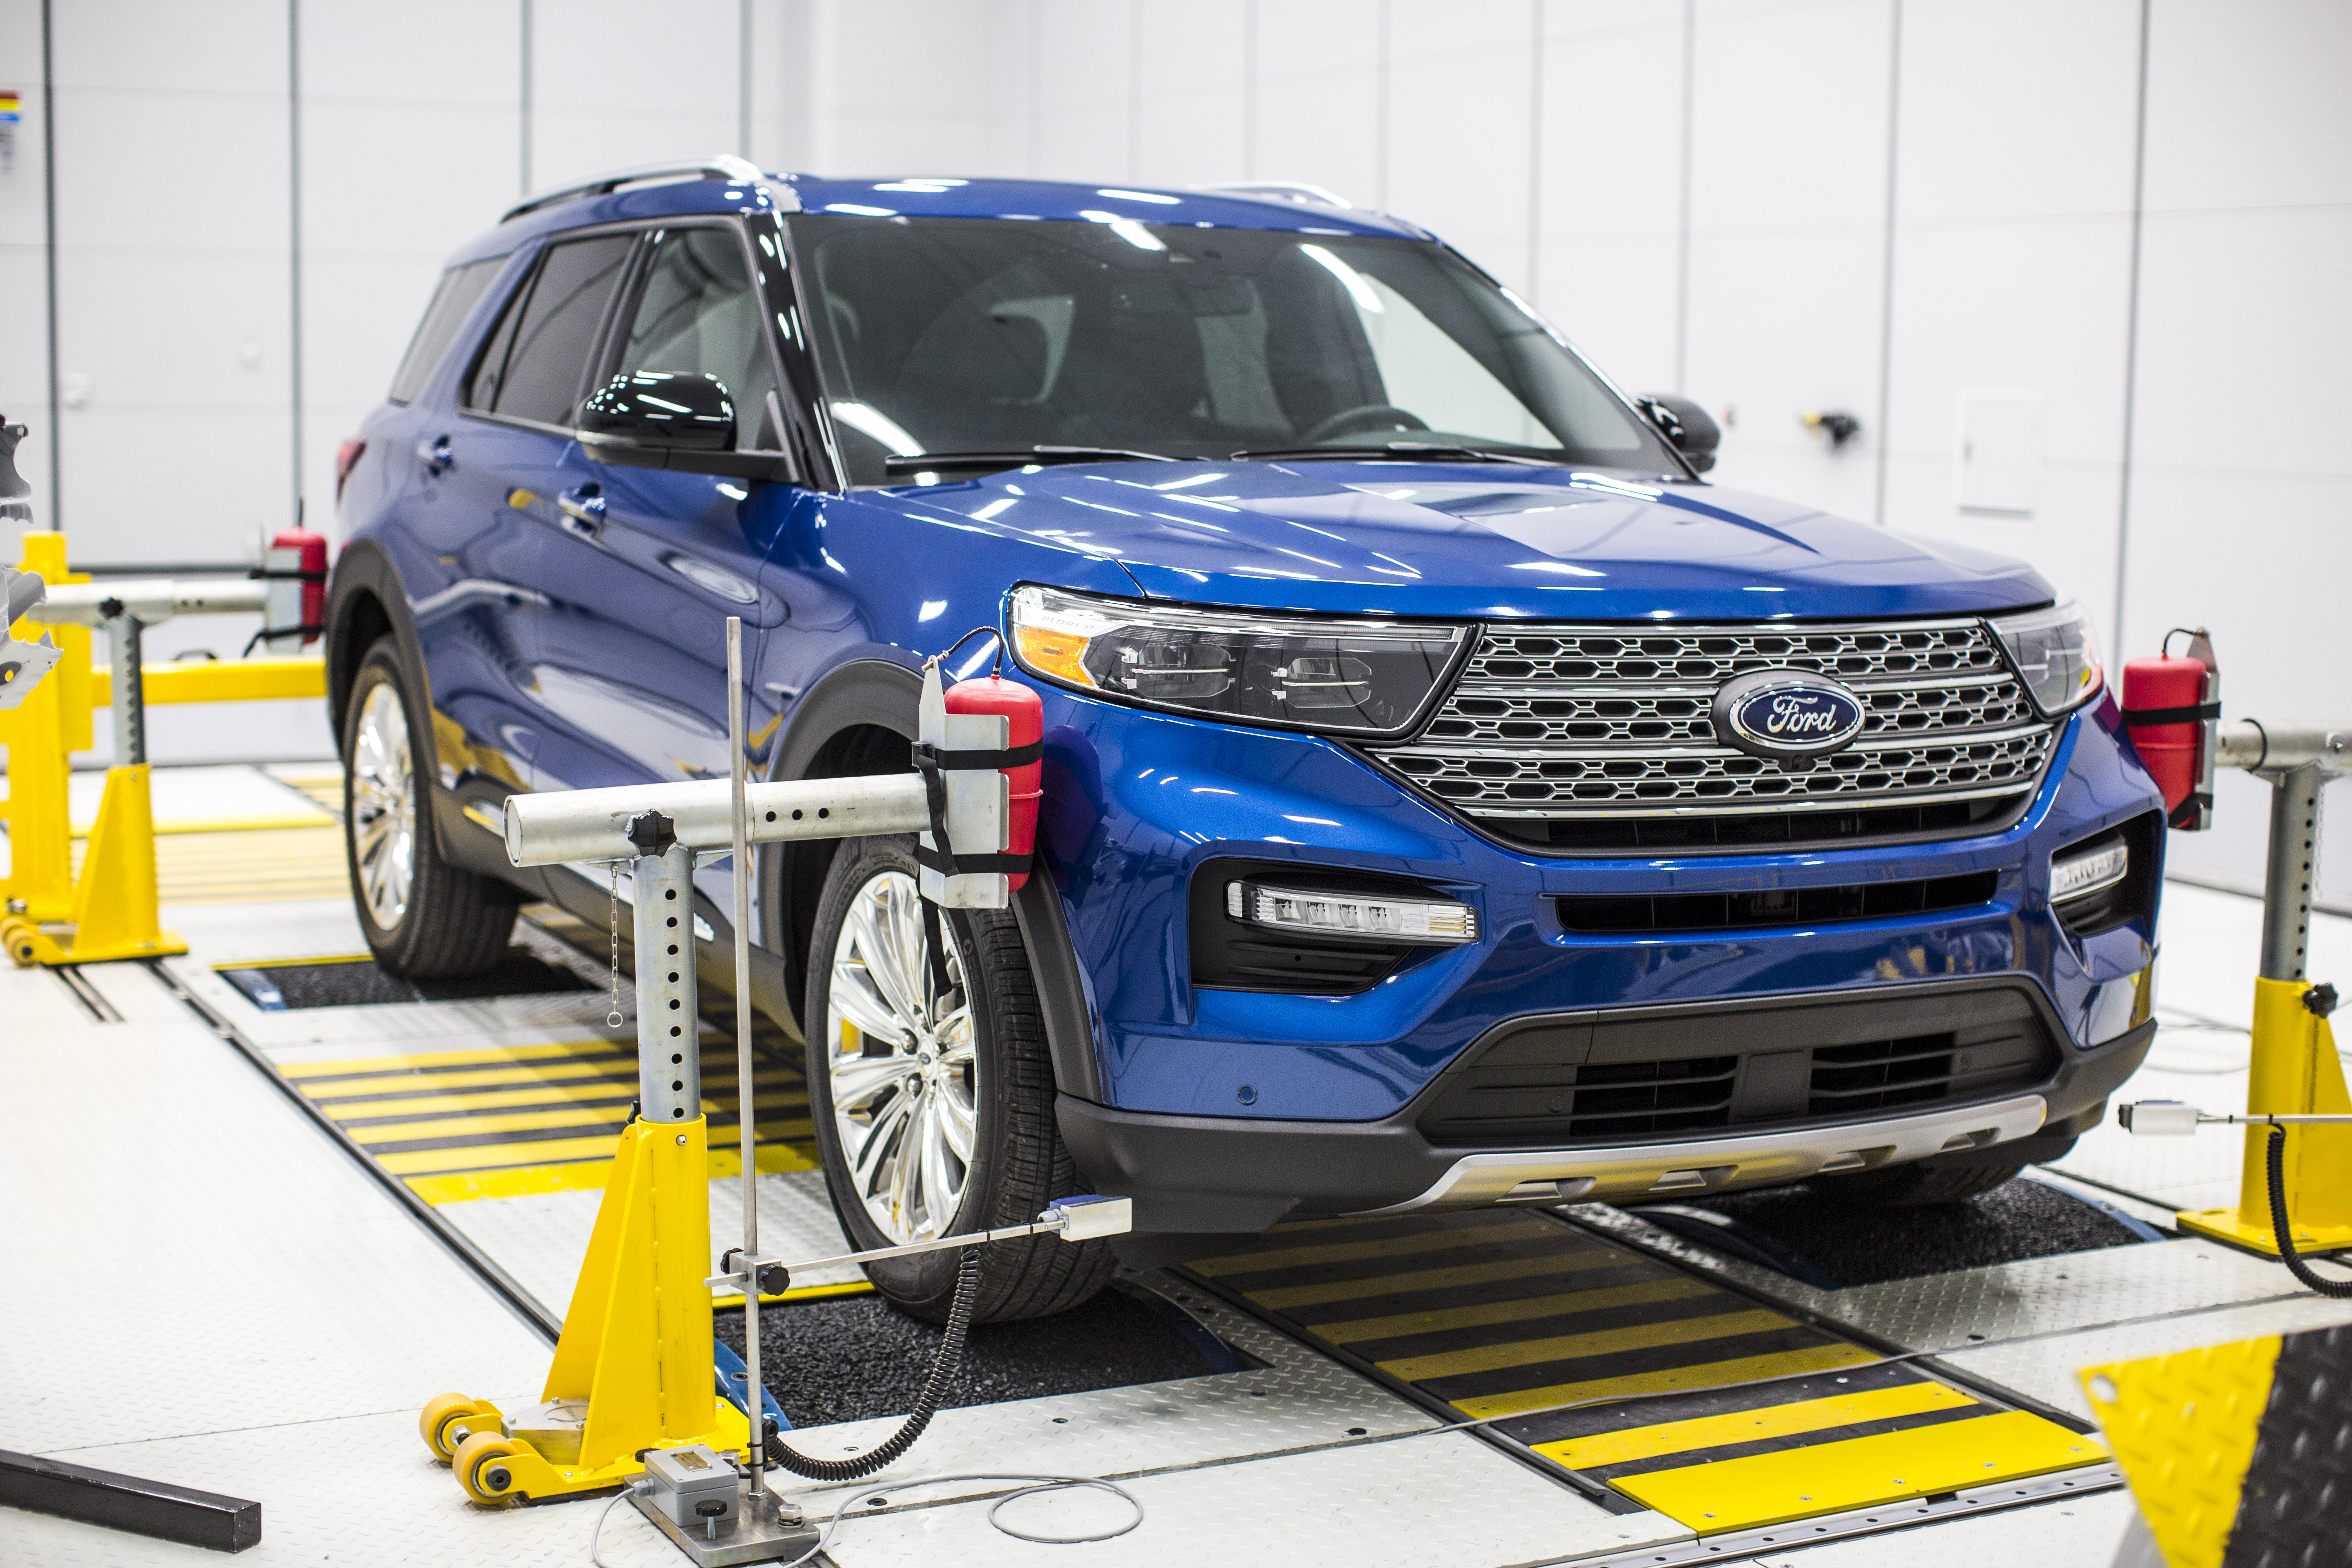Ford Explorer: (308, 154, 2177, 1340)
